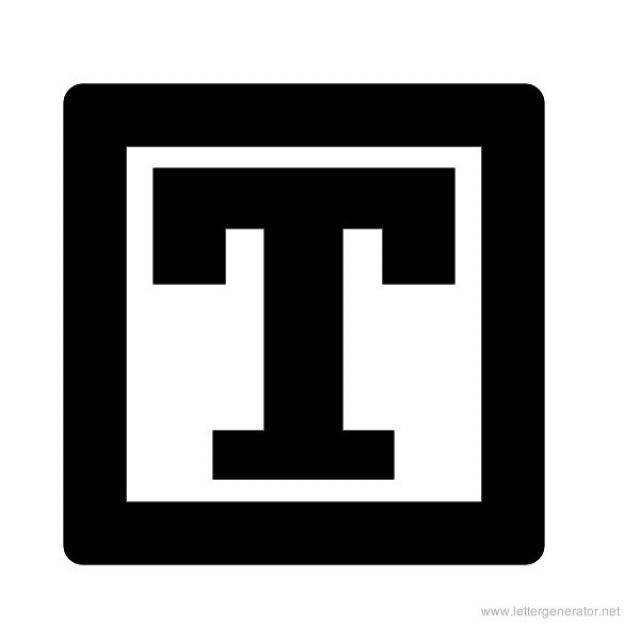T: (140, 150, 470, 494)
